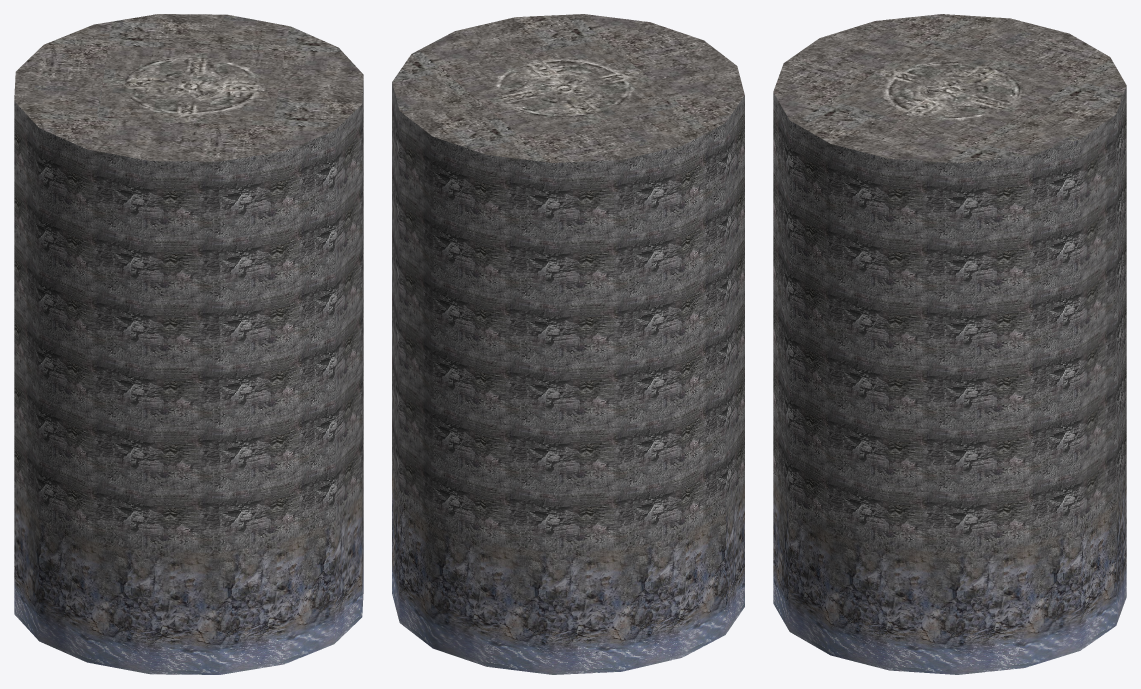
3 views of the same model, side by side, from view 1: azimuth 30°, elevation 25°; view 2: azimuth 150°, elevation 25°; view 3: azimuth 270°, elevation 25° (orthographic).
Parts seen in each view (by area): view 1: WZ2; view 2: WZ2; view 3: WZ2.
Boxes of the visible parts, left/top/right/bottom form: WZ2: left=14, top=14, right=363, bottom=674; WZ2: left=392, top=14, right=744, bottom=674; WZ2: left=773, top=14, right=1126, bottom=674.
Bounding box in the file's own units: 500 × 798 × 500.
